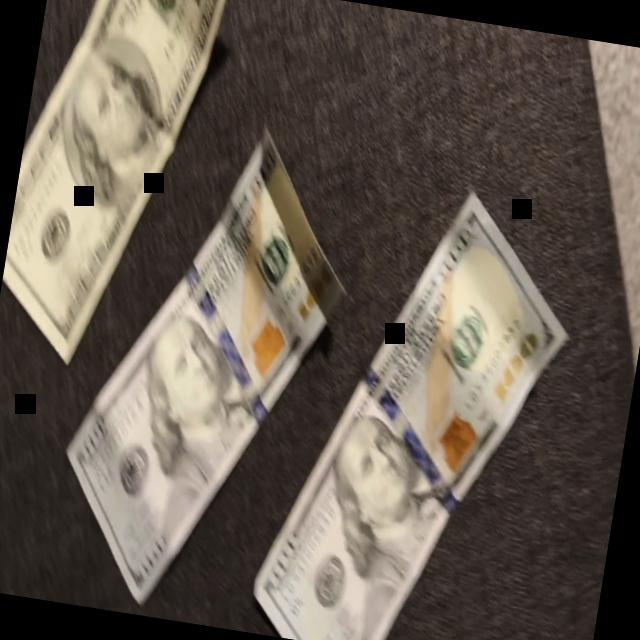hundred: (249, 161, 593, 640), (43, 123, 369, 626), (0, 0, 231, 383)
